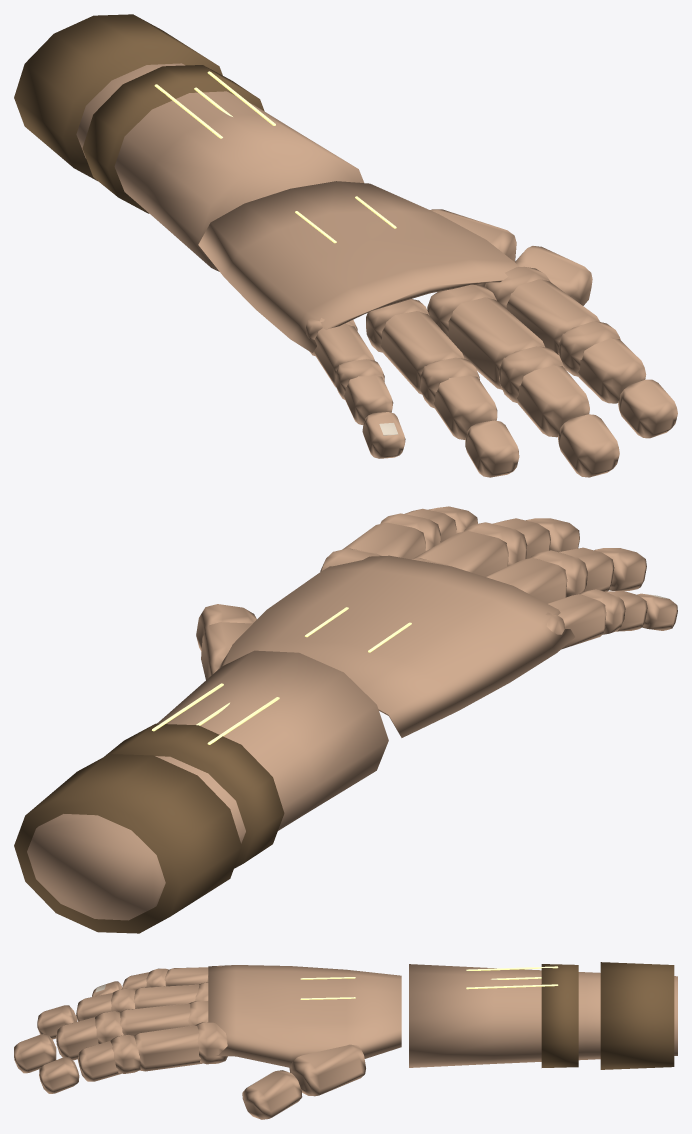
Rendered from mano-izq.glb.
The picture shows the model from 3 angles, top to bottom: view 1: azimuth 30°, elevation 25°; view 2: azimuth 150°, elevation 25°; view 3: azimuth 270°, elevation 25°; orthographic projection. The views are drawn at different scales.
Visible parts, largest first — view 1: Palma, Antebrazo, Banda_1, Banda_2, MedioF1, AnularF1, IndiceF1, MedioF2, IndiceF2, MedioF3, AnularF2, IndiceF3 (+13 smaller); view 2: Palma, Antebrazo, Banda_1, Banda_2, MedioF1, AnularF1, IndiceF1, MeniqueF1, PulgarF1, AnularF3, AnularF2, AnularN2 (+9 smaller); view 3: Palma, Antebrazo, Banda_1, Banda_2, PulgarF1, IndiceF1, PulgarF2, MedioF1, MedioF3, MedioF2, IndiceF2, AnularF1 (+11 smaller).
Part boxes in pixels (x1=…): Palma: x1=198, y1=181, x2=519, y2=352; Antebrazo: x1=76, y1=63, x2=364, y2=271; Banda_1: x1=14, y1=14, x2=222, y2=180; Banda_2: x1=82, y1=65, x2=264, y2=213; MedioF1: x1=448, y1=297, x2=544, y2=389; AnularF1: x1=380, y1=311, x2=464, y2=394; IndiceF1: x1=506, y1=279, x2=599, y2=354; MedioF2: x1=517, y1=365, x2=589, y2=437; IndiceF2: x1=578, y1=338, x2=646, y2=403; MedioF3: x1=558, y1=414, x2=619, y2=477; AnularF2: x1=433, y1=375, x2=497, y2=439; IndiceF3: x1=618, y1=379, x2=677, y2=438; Palma: x1=215, y1=555, x2=574, y2=737; Antebrazo: x1=27, y1=650, x2=388, y2=920; Banda_1: x1=14, y1=754, x2=241, y2=933; Banda_2: x1=104, y1=723, x2=284, y2=868; MedioF1: x1=413, y1=531, x2=508, y2=576; AnularF1: x1=485, y1=558, x2=567, y2=603; IndiceF1: x1=342, y1=522, x2=425, y2=559; MeniqueF1: x1=547, y1=594, x2=606, y2=649; PulgarF1: x1=201, y1=622, x2=252, y2=679; AnularF3: x1=594, y1=548, x2=646, y2=590; AnularF2: x1=559, y1=547, x2=614, y2=591; AnularN2: x1=530, y1=550, x2=587, y2=597; Palma: x1=208, y1=965, x2=401, y2=1067; Antebrazo: x1=409, y1=964, x2=677, y2=1067; Banda_1: x1=600, y1=962, x2=674, y2=1069; Banda_2: x1=541, y1=964, x2=578, y2=1067; PulgarF1: x1=289, y1=1044, x2=365, y2=1096; IndiceF1: x1=134, y1=1025, x2=202, y2=1071; PulgarF2: x1=242, y1=1070, x2=302, y2=1119; MedioF1: x1=120, y1=1003, x2=190, y2=1035; MedioF3: x1=14, y1=1034, x2=56, y2=1073; MedioF2: x1=56, y1=1017, x2=98, y2=1060; IndiceF2: x1=77, y1=1041, x2=121, y2=1081; AnularF1: x1=133, y1=984, x2=199, y2=1008.
Bounding box in the file's own units: 0.1455 × 0.055 × 0.3606.
